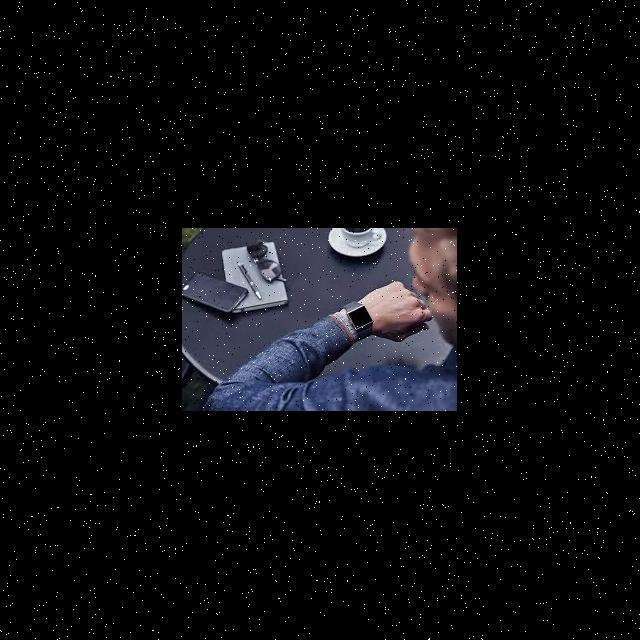smart phone: (165, 268, 255, 325)
watch: (332, 287, 376, 350)
